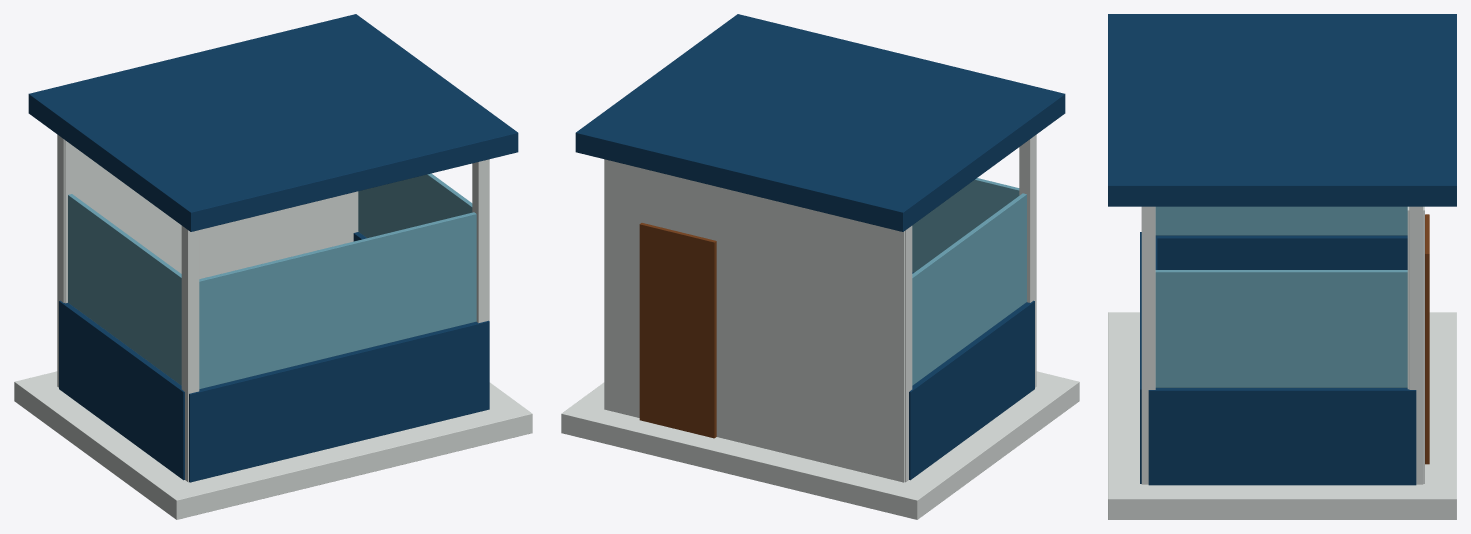
The model's file is edited.glb.
3 renders of one model, left to right at view 1: azimuth 30°, elevation 25°; view 2: azimuth 150°, elevation 25°; view 3: azimuth 270°, elevation 25°, orthographic. The views are drawn at different scales.
Parts seen in each view (by area): view 1: CANOPY, WINDOW_Front, WALL_Sill, FOUNDATION, WALL_Back, WINDOW_Side, WALL_Side, WINDOW_Side.001, WALL_Column, WALL_Column.002, WALL_Column.001; view 2: CANOPY, WALL_Back, FOUNDATION, DOOR_Panel, WINDOW_Side, WALL_Side, WINDOW_Front, WALL_Column, WALL_Column.001; view 3: CANOPY, WINDOW_Side.001, WALL_Side.001, FOUNDATION, WALL_Side, WINDOW_Side, WALL_Column.002, WALL_Column.003, DOOR_Panel, WALL_Back, WALL_Sill.
Part boxes in pixels (x1,y1,x2,y2): CANOPY: (28, 14, 518, 231); WINDOW_Front: (199, 212, 476, 389); WALL_Sill: (189, 320, 489, 482); FOUNDATION: (14, 371, 532, 519); WALL_Back: (64, 140, 358, 303); WINDOW_Side: (68, 194, 181, 385); WALL_Side: (59, 300, 184, 480); WINDOW_Side.001: (358, 173, 472, 237); WALL_Column: (181, 226, 199, 482); WALL_Column.002: (472, 159, 489, 323); WALL_Column.001: (57, 134, 64, 387); CANOPY: (575, 14, 1065, 231); WALL_Back: (604, 159, 904, 482); FOUNDATION: (561, 371, 1079, 519); DOOR_Panel: (639, 223, 716, 438); WINDOW_Side: (912, 193, 1026, 385); WALL_Side: (909, 300, 1034, 480); WINDOW_Front: (912, 178, 1019, 272); WALL_Column: (1019, 134, 1036, 387); WALL_Column.001: (905, 226, 912, 482); CANOPY: (1108, 14, 1456, 206); WINDOW_Side.001: (1155, 270, 1407, 387); WALL_Side.001: (1148, 388, 1416, 485); FOUNDATION: (1108, 312, 1456, 519); WALL_Side: (1155, 235, 1407, 269); WINDOW_Side: (1155, 206, 1407, 235); WALL_Column.002: (1141, 206, 1155, 484); WALL_Column.003: (1409, 206, 1423, 484); DOOR_Panel: (1425, 214, 1429, 464); WALL_Back: (1407, 206, 1424, 483); WALL_Sill: (1140, 232, 1157, 483).
Bounding box in the file's own units: 3.8 × 3.1 × 3.
